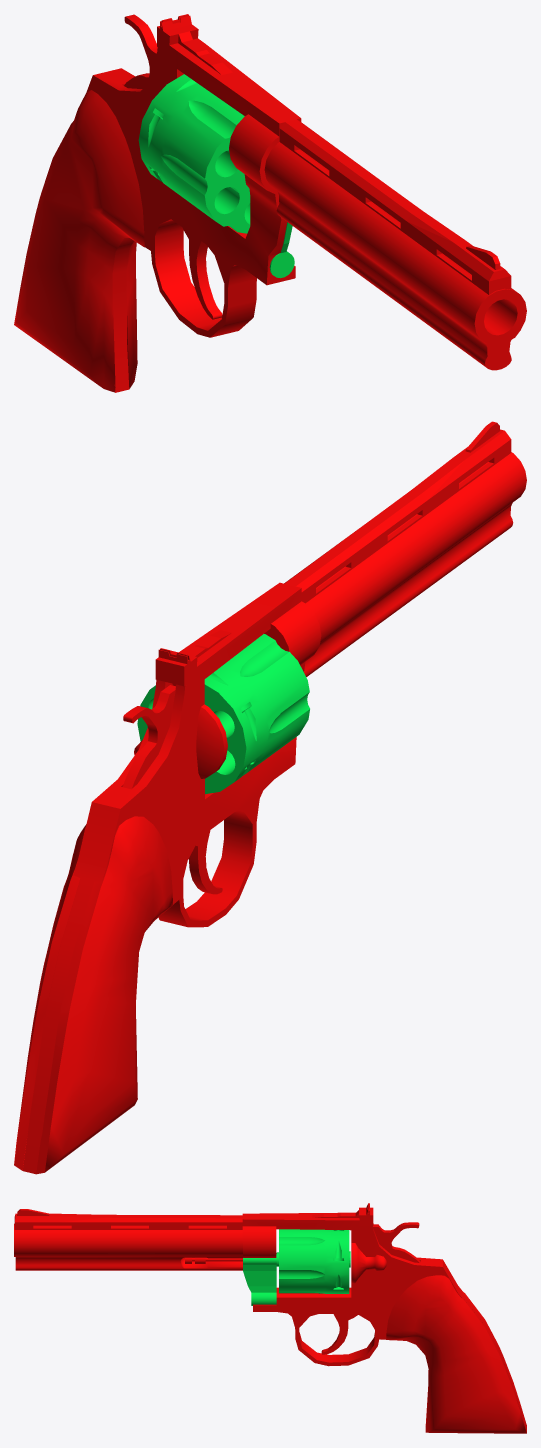
The model's file is Revolver_Scale_Test.FBX.
3 renders of one model, top to bottom at view 1: azimuth 30°, elevation 25°; view 2: azimuth 150°, elevation 25°; view 3: azimuth 270°, elevation 25°, orthographic. The views are drawn at different scales.
Visible parts, largest first — view 1: Revolver; view 2: Revolver; view 3: Revolver.
Part boxes in pixels (x1,y1,x2,y2): Revolver: (14,14,526,392); Revolver: (14,421,526,1174); Revolver: (14,1203,526,1433).
Bounding box in the file's own units: 2.73 × 9.93 × 20.49.
